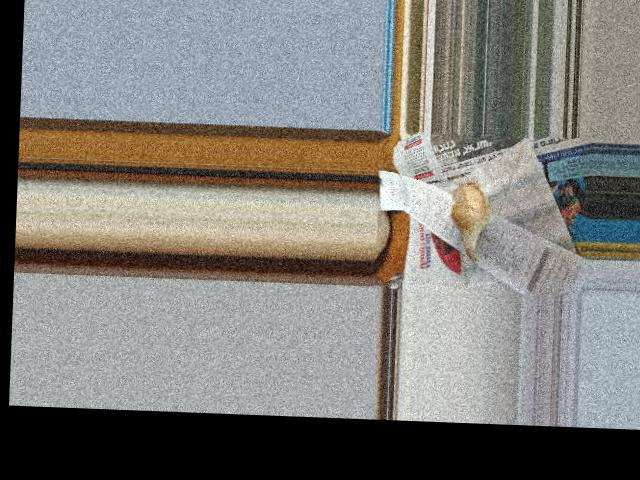onion: (449, 180, 491, 254)
